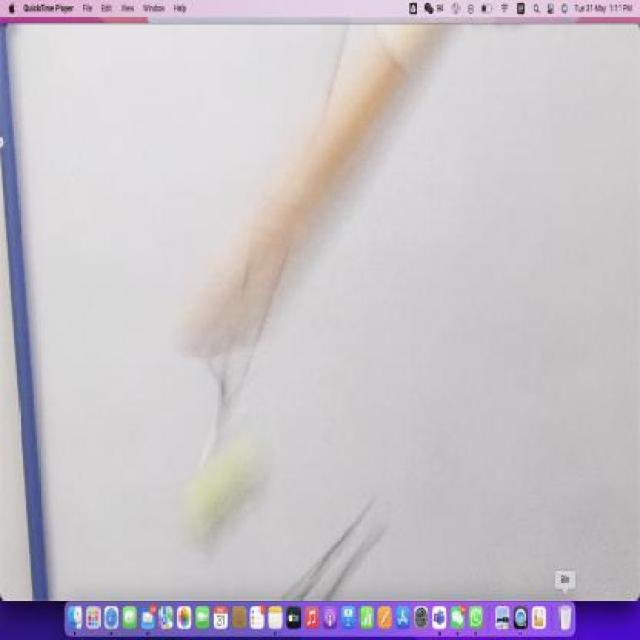baseball: (176, 435, 284, 550)
